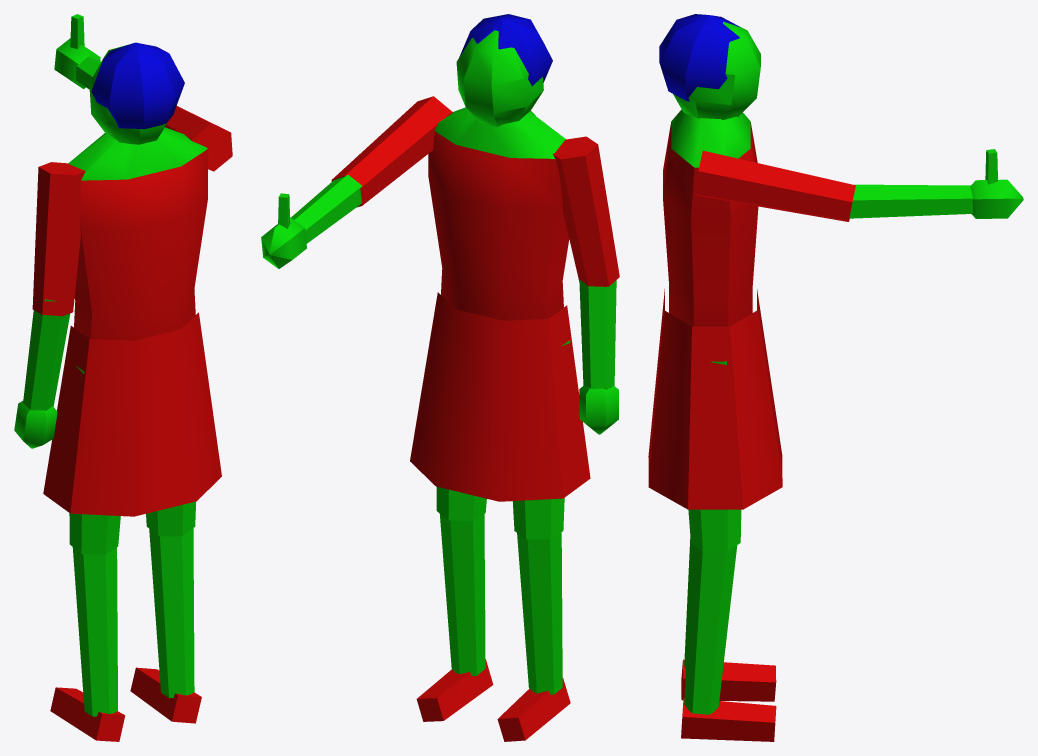
The model's file is stand_thumbs_lod0.glb.
The picture shows the model from 3 angles, left to right: view 1: azimuth 30°, elevation 25°; view 2: azimuth 150°, elevation 25°; view 3: azimuth 270°, elevation 25°; orthographic projection. The views are drawn at different scales.
Visible parts, largest first — view 1: OUT_0; view 2: OUT_0; view 3: OUT_0.
Part boxes in pixels (left/top/right/bottom): OUT_0: left=14, top=14, right=232, bottom=741; OUT_0: left=261, top=14, right=619, bottom=741; OUT_0: left=648, top=14, right=1023, bottom=741.
Size of the model in its own units: 0.5598 by 1.71 by 0.828.
